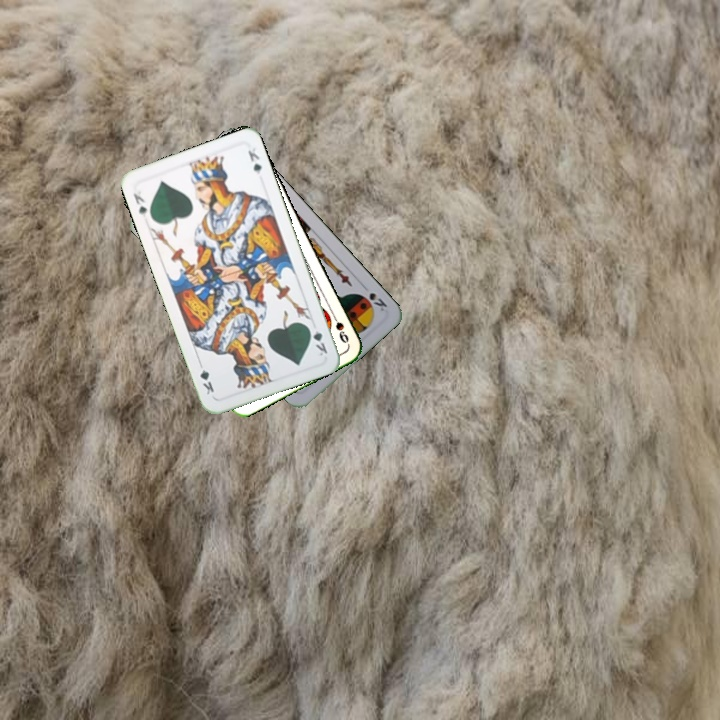GK: (304, 322, 330, 358), (129, 187, 150, 220)
S9: (327, 309, 351, 346)
SK: (365, 288, 390, 314)
